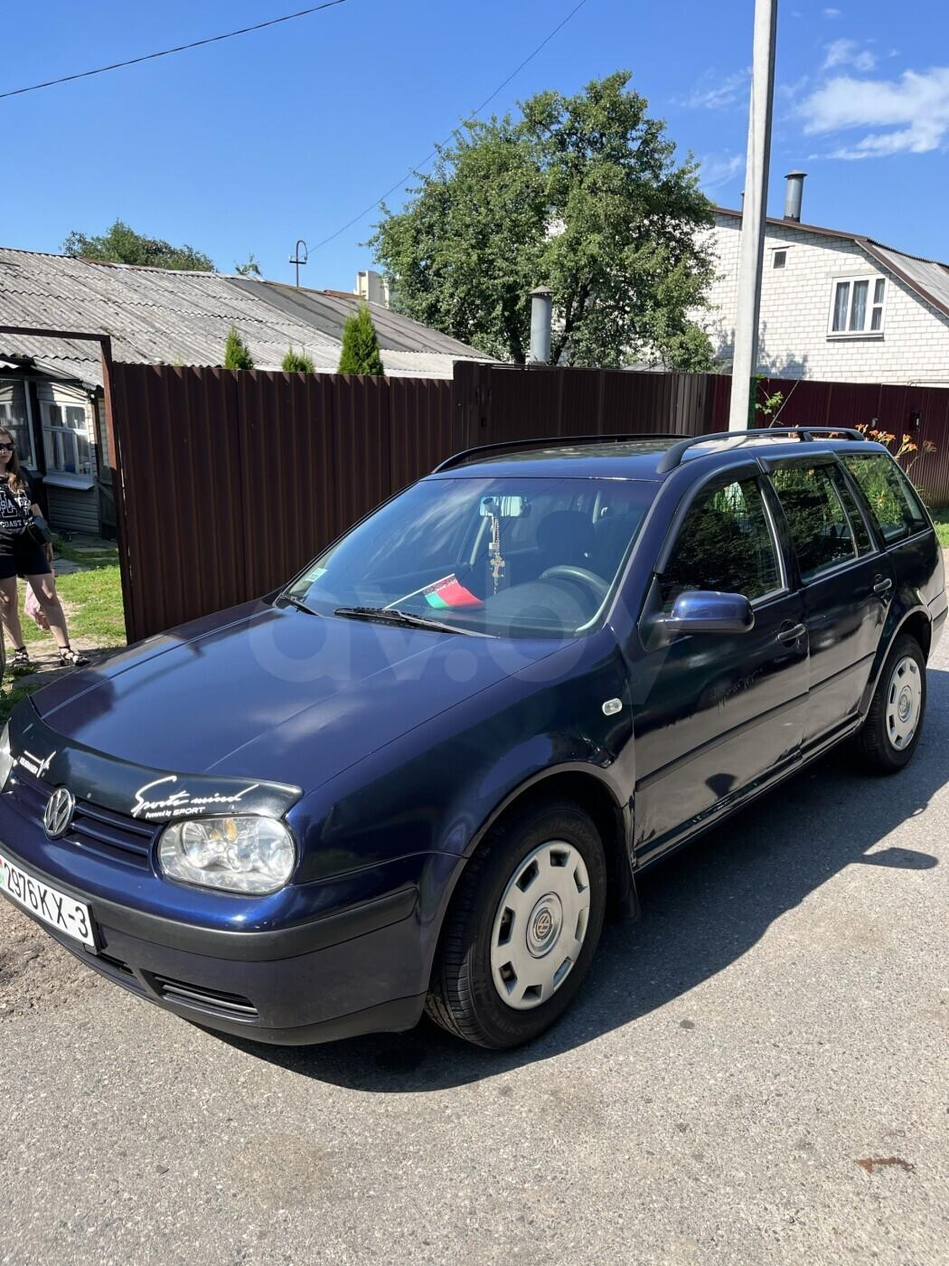Golf_1997-2006: (2, 435, 949, 1049)
